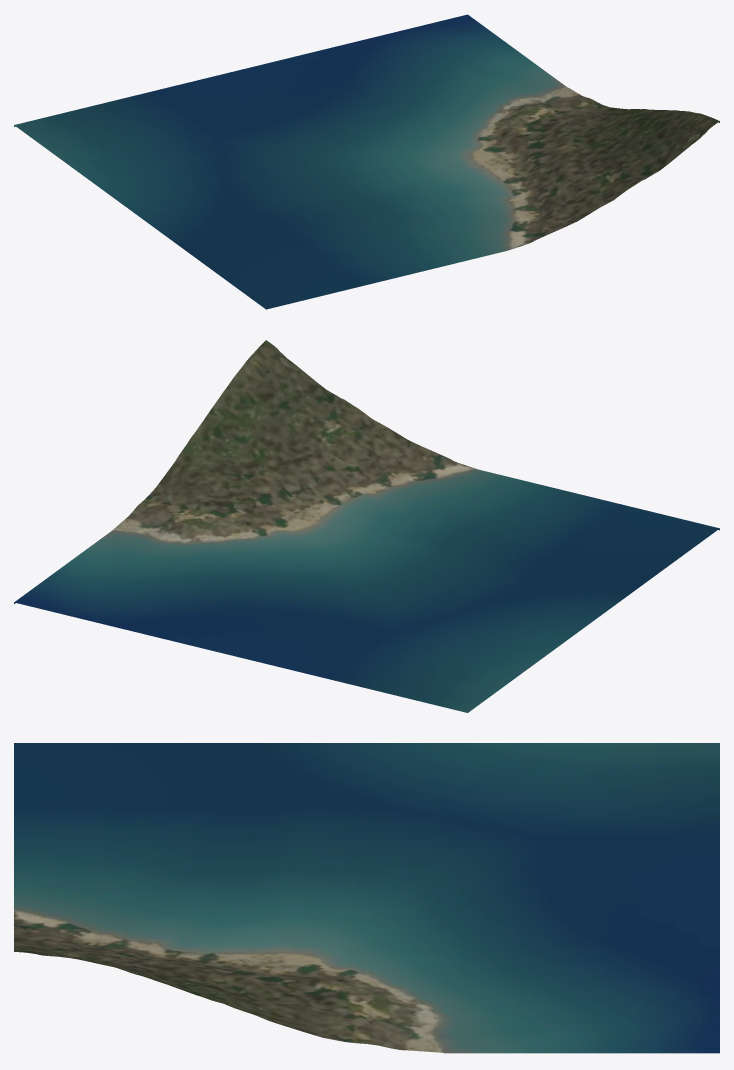
The picture shows the model from 3 angles, top to bottom: view 1: azimuth 30°, elevation 25°; view 2: azimuth 150°, elevation 25°; view 3: azimuth 270°, elevation 25°; orthographic projection. The views are drawn at different scales.
Size of the model in its own units: 250 by 42 by 241.
1 material, 1 textured.
